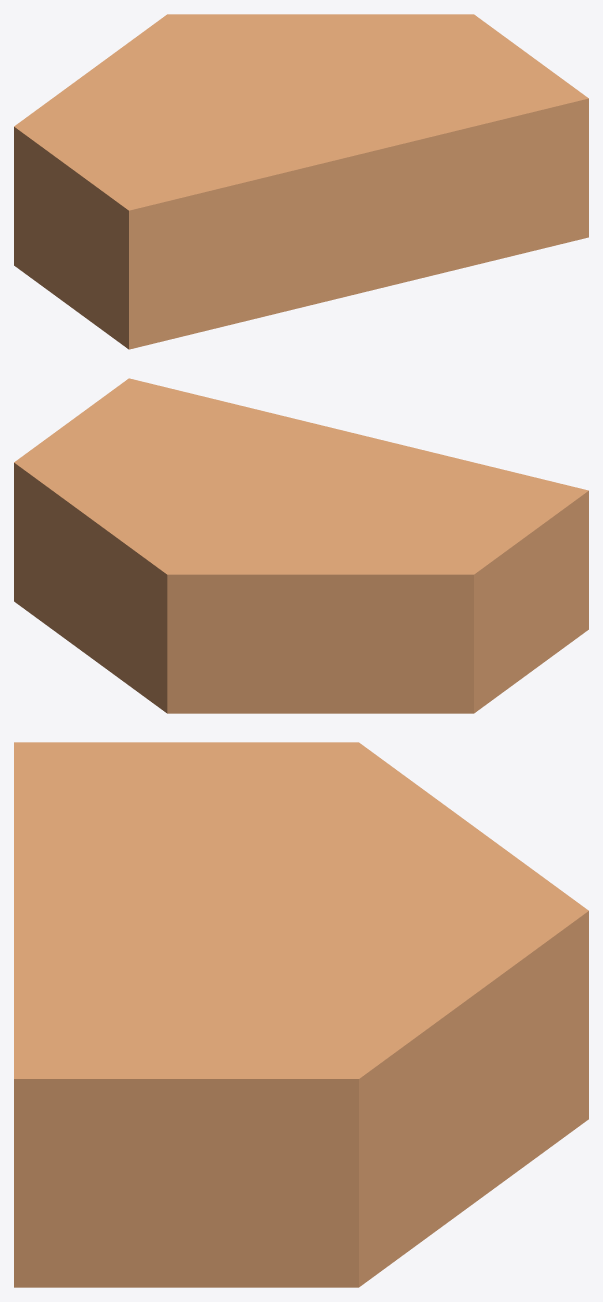
3 views of the same model, one above another, from view 1: azimuth 30°, elevation 25°; view 2: azimuth 150°, elevation 25°; view 3: azimuth 270°, elevation 25° (orthographic). The views are drawn at different scales.
Visible parts, largest first — view 1: VaromaWallHalfFill; view 2: VaromaWallHalfFill; view 3: VaromaWallHalfFill.
Boxes of the visible parts, x1,y1,x2,y2 form: VaromaWallHalfFill: (14,14,588,349); VaromaWallHalfFill: (14,378,588,713); VaromaWallHalfFill: (14,742,588,1287).
Size of the model in its own units: 1.73 by 0.5 by 1.25.
1 material, 1 textured.
